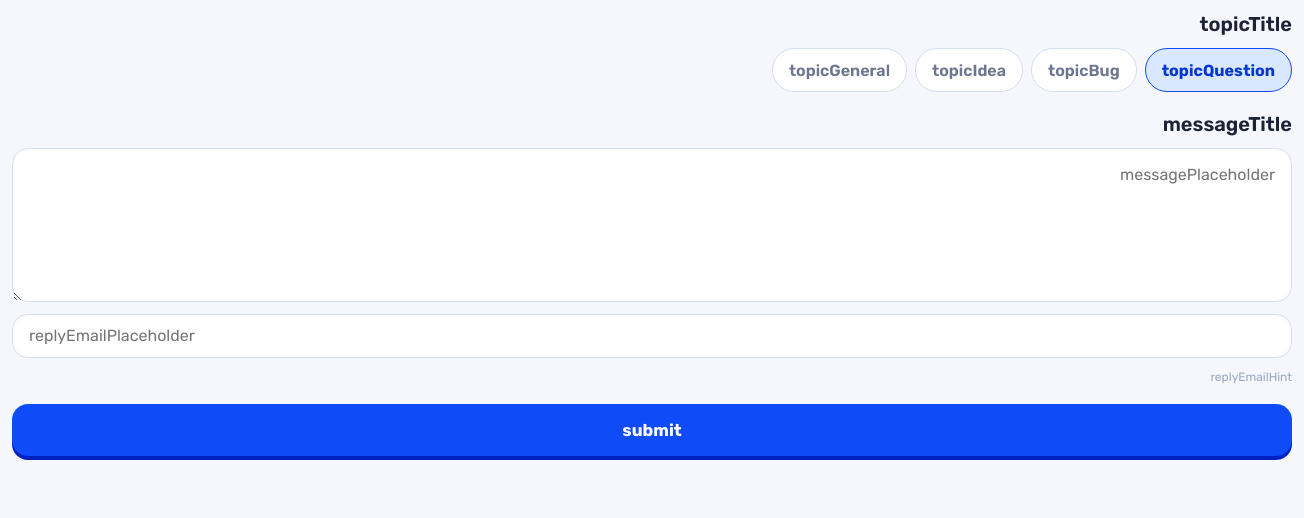
Scenario: ContactForm › shows the API error and preserves the form
The image size is (1304, 518).
Type "Need help" into the text box with placeholder "messagePlaceholder" at (652, 225), box [12,148,1292,302]
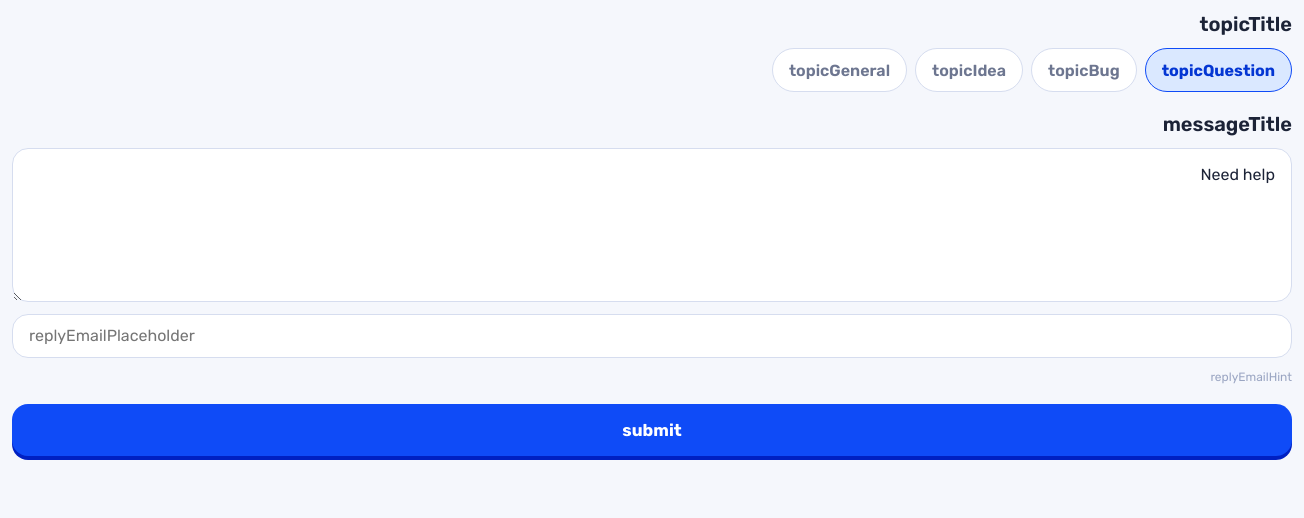
Submit the form named "submit"
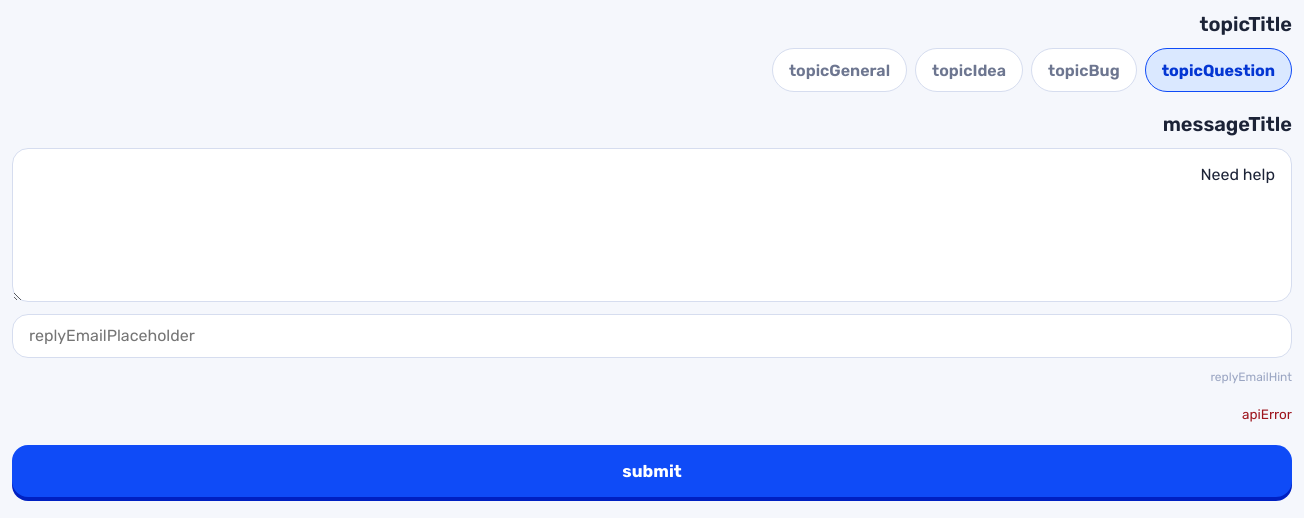
Expected: the message reads "apiError", [1242,406,1292,422]
